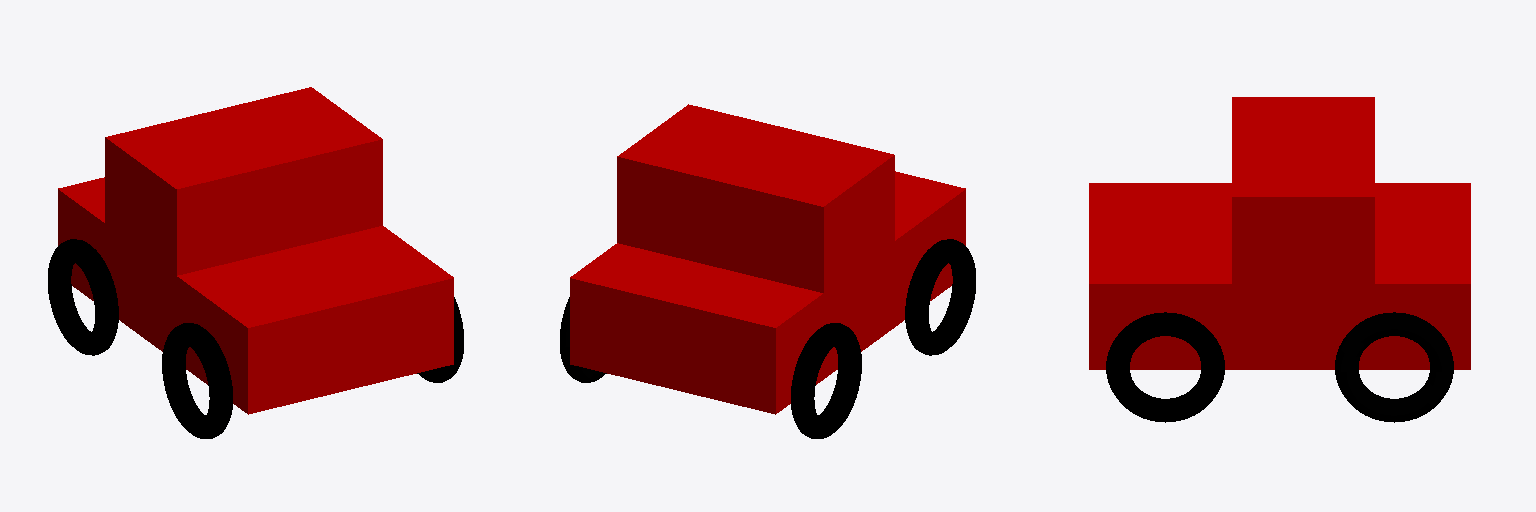
Rendered from tempCar.obj.
3 renders of one model, left to right at view 1: azimuth 30°, elevation 25°; view 2: azimuth 150°, elevation 25°; view 3: azimuth 270°, elevation 25°, orthographic.
Parts seen in each view (by area): view 1: Car_Cube; view 2: Car_Cube; view 3: Car_Cube.
Part boxes in pixels (bbox=[...]): Car_Cube: bbox=[48, 87, 463, 438]; Car_Cube: bbox=[560, 104, 975, 438]; Car_Cube: bbox=[1089, 97, 1470, 422].
Bounding box in the file's own units: 6.1 × 5.05 × 8.